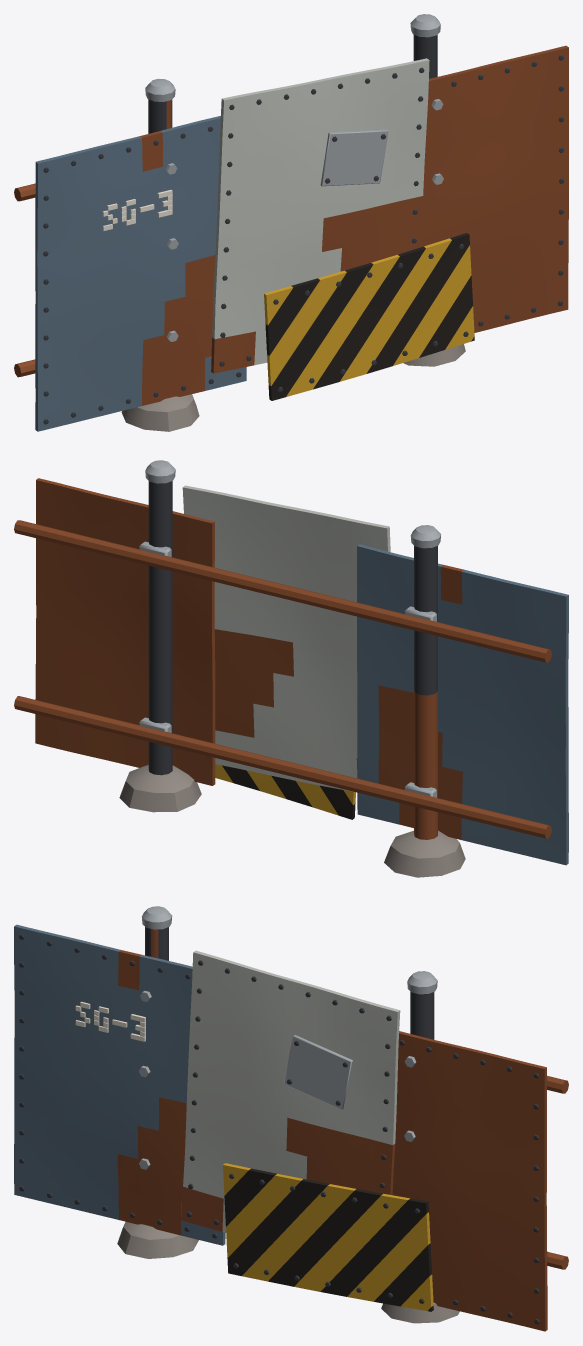
File: deco_salvage_hull_fence.fbx
3 views of the same model, one above another, from view 1: azimuth 30°, elevation 25°; view 2: azimuth 150°, elevation 25°; view 3: azimuth 330°, elevation 25° (orthographic).
Parts seen in each view (by area): view 1: Salvage_HullFence_PlateBlue, Salvage_HullFence_PlateWhite, Salvage_HullFence_PlateRust, Salvage_HullFence_PlateHazard, Salvage_HullFence_Posts; view 2: Salvage_HullFence_PlateBlue, Salvage_HullFence_PlateRust, Salvage_HullFence_PlateWhite, Salvage_HullFence_Posts, Salvage_HullFence_PlateHazard; view 3: Salvage_HullFence_PlateBlue, Salvage_HullFence_PlateWhite, Salvage_HullFence_PlateRust, Salvage_HullFence_PlateHazard, Salvage_HullFence_Posts.
Boxes of the visible parts, x1=… form: Salvage_HullFence_PlateBlue: x1=35, y1=116, x2=246, y2=431; Salvage_HullFence_PlateWhite: x1=211, y1=58, x2=429, y2=373; Salvage_HullFence_PlateRust: x1=421, y1=45, x2=568, y2=332; Salvage_HullFence_PlateHazard: x1=264, y1=233, x2=474, y2=400; Salvage_HullFence_Posts: x1=14, y1=14, x2=465, y2=431; Salvage_HullFence_PlateBlue: x1=357, y1=544, x2=568, y2=865; Salvage_HullFence_PlateRust: x1=35, y1=478, x2=215, y2=785; Salvage_HullFence_PlateWhite: x1=182, y1=485, x2=390, y2=792; Salvage_HullFence_Posts: x1=14, y1=460, x2=551, y2=877; Salvage_HullFence_PlateHazard: x1=215, y1=764, x2=355, y2=819; Salvage_HullFence_PlateBlue: x1=14, y1=924, x2=225, y2=1245; Salvage_HullFence_PlateWhite: x1=181, y1=950, x2=400, y2=1232; Salvage_HullFence_PlateRust: x1=392, y1=1031, x2=547, y2=1331; Salvage_HullFence_PlateHazard: x1=223, y1=1163, x2=433, y2=1311; Salvage_HullFence_Posts: x1=117, y1=906, x2=568, y2=1323.
Bounding box in the file's own units: 300 × 180 × 41.42.
